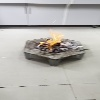fire: (37, 29, 64, 52)
